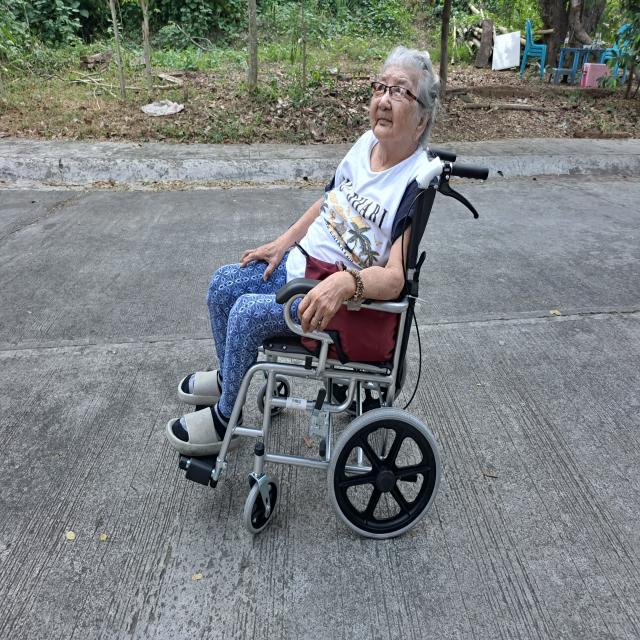wheelchairs: (170, 137, 492, 555)
